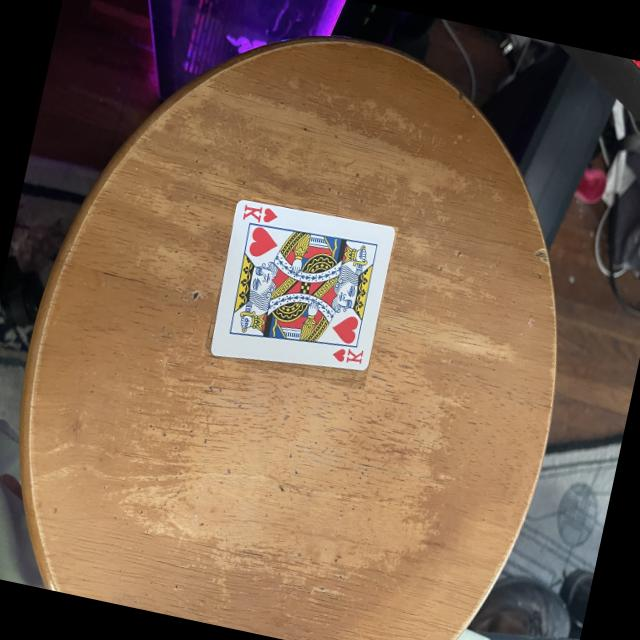King of hearts: (205, 197, 392, 373)
